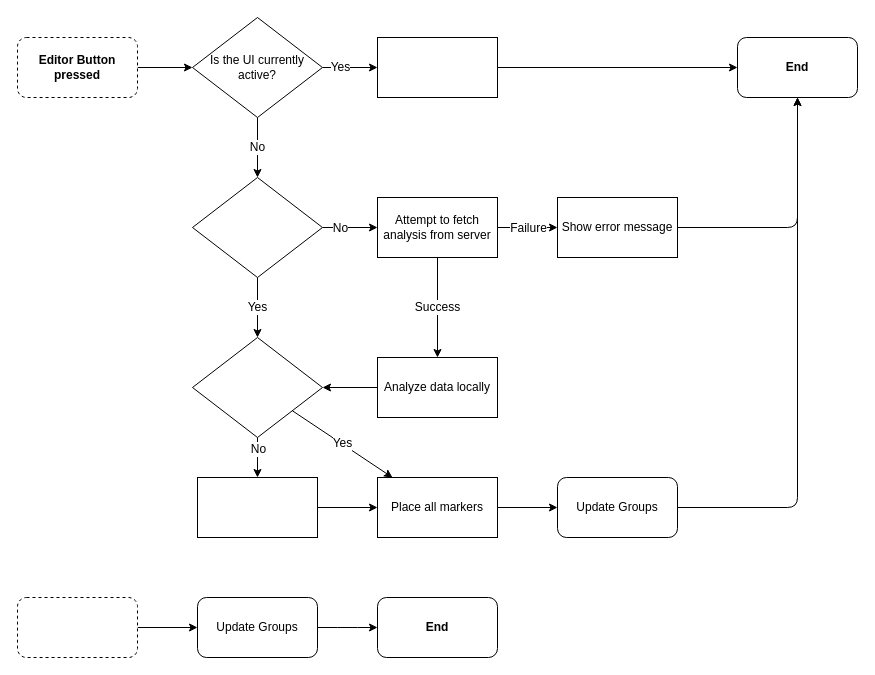
Image size: 875x675. Some labels were removed from this diagram. Here are the shapes that lost their labels. From the top down, the centre of each, then its label:
At (437,67): "Disable UI Remove all Markers & Groups".
At (257,227): "Have deaths been loaded yet?".
At (257,387): "Has the Guide Popup been shown yet?".
At (257,507): "Show Guide Popup".
At (77,627): "User zooms in/out".
